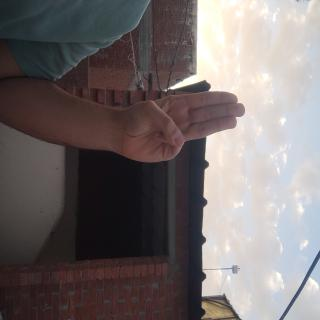THA: (66, 92, 124, 274)
